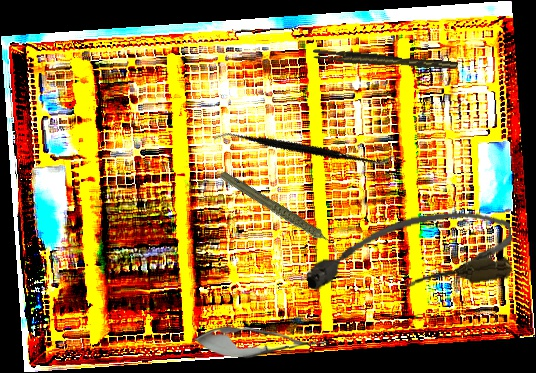Cannula: (301, 204, 517, 304)
Handpiece: (217, 149, 341, 276)
Micro Scissor: (191, 323, 329, 361)
Spatula Surgical: (211, 72, 396, 222)
Tissue Forceps: (312, 44, 458, 77)
